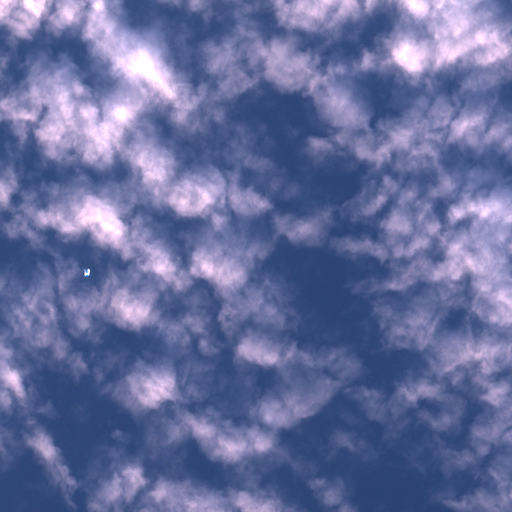Iceberg: (84, 269, 89, 276)
